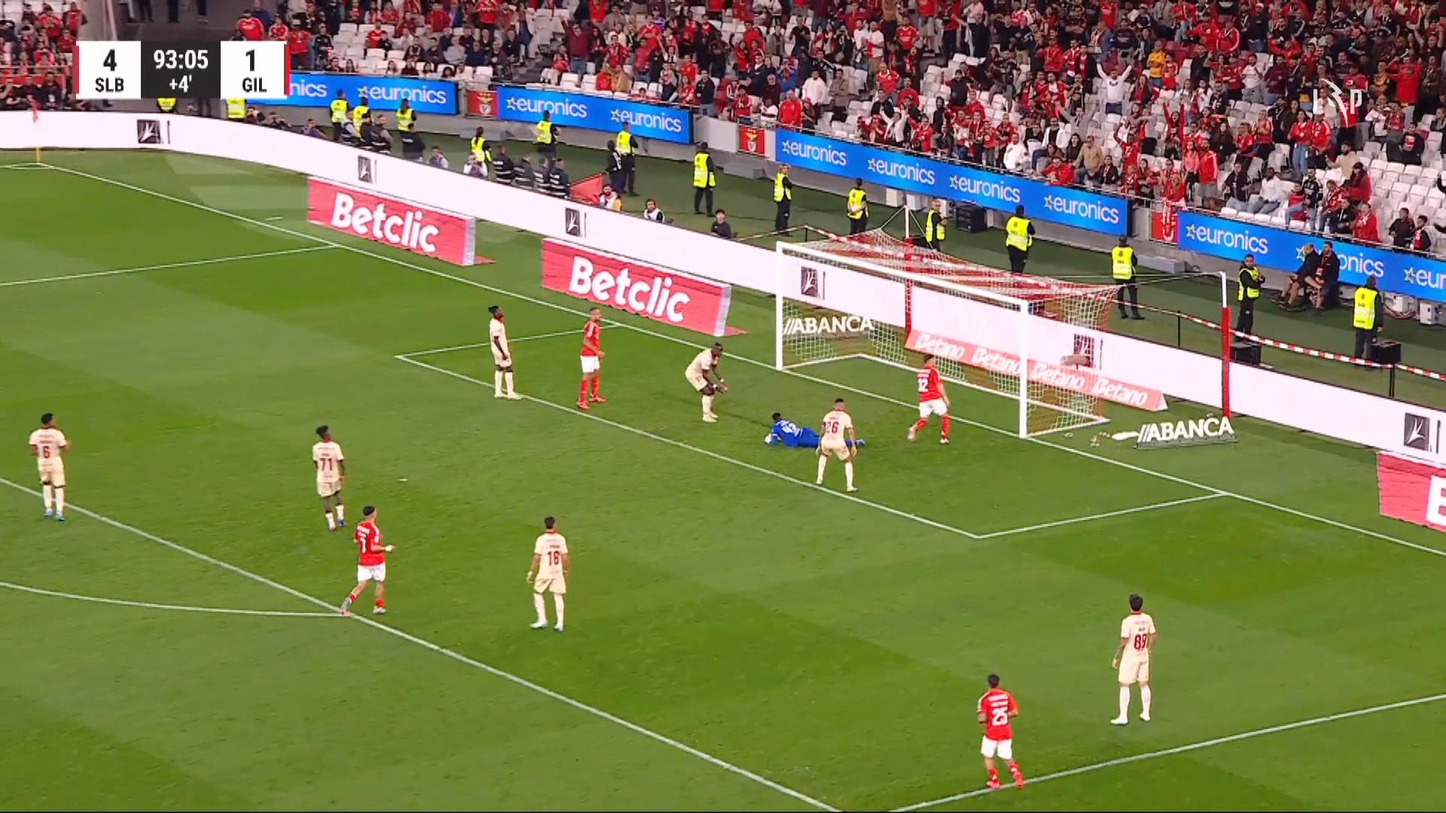goalkeeper: (763, 410, 865, 451)
player: (1109, 593, 1157, 725), (339, 504, 395, 617), (975, 672, 1024, 790), (525, 515, 570, 632), (27, 411, 70, 522), (813, 397, 859, 492), (906, 352, 951, 444), (310, 424, 346, 531), (684, 341, 728, 422), (575, 306, 607, 410), (487, 304, 521, 399), (763, 411, 820, 448)
